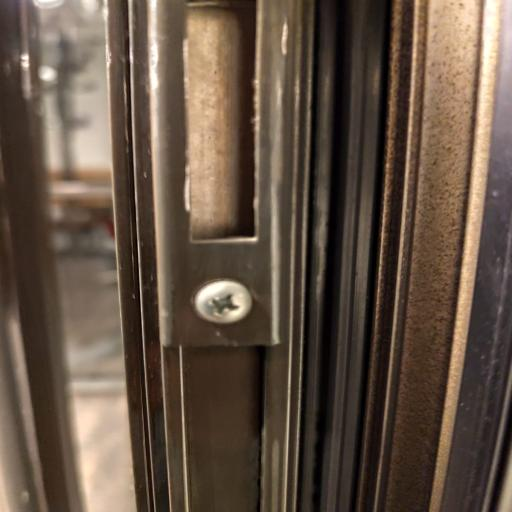Phillips: (187, 272, 260, 330)
